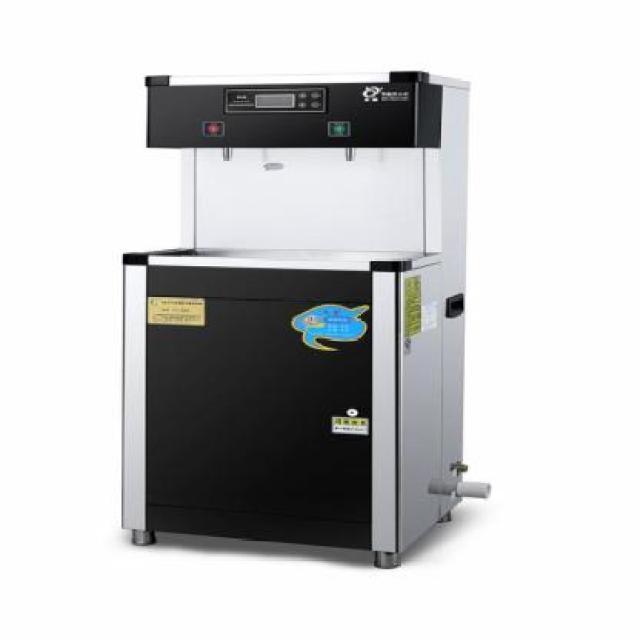cooler: (120, 63, 490, 569)
